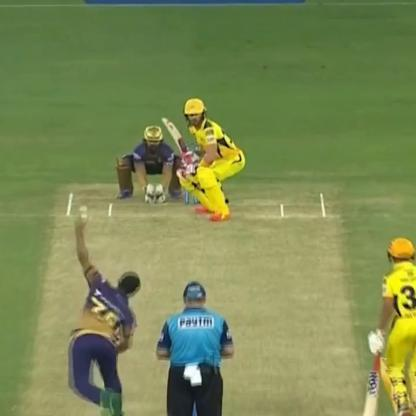ball: (70, 203, 92, 212), (76, 214, 88, 228)
bat: (151, 108, 203, 175), (352, 334, 386, 410)
pitch: (13, 180, 374, 416)
